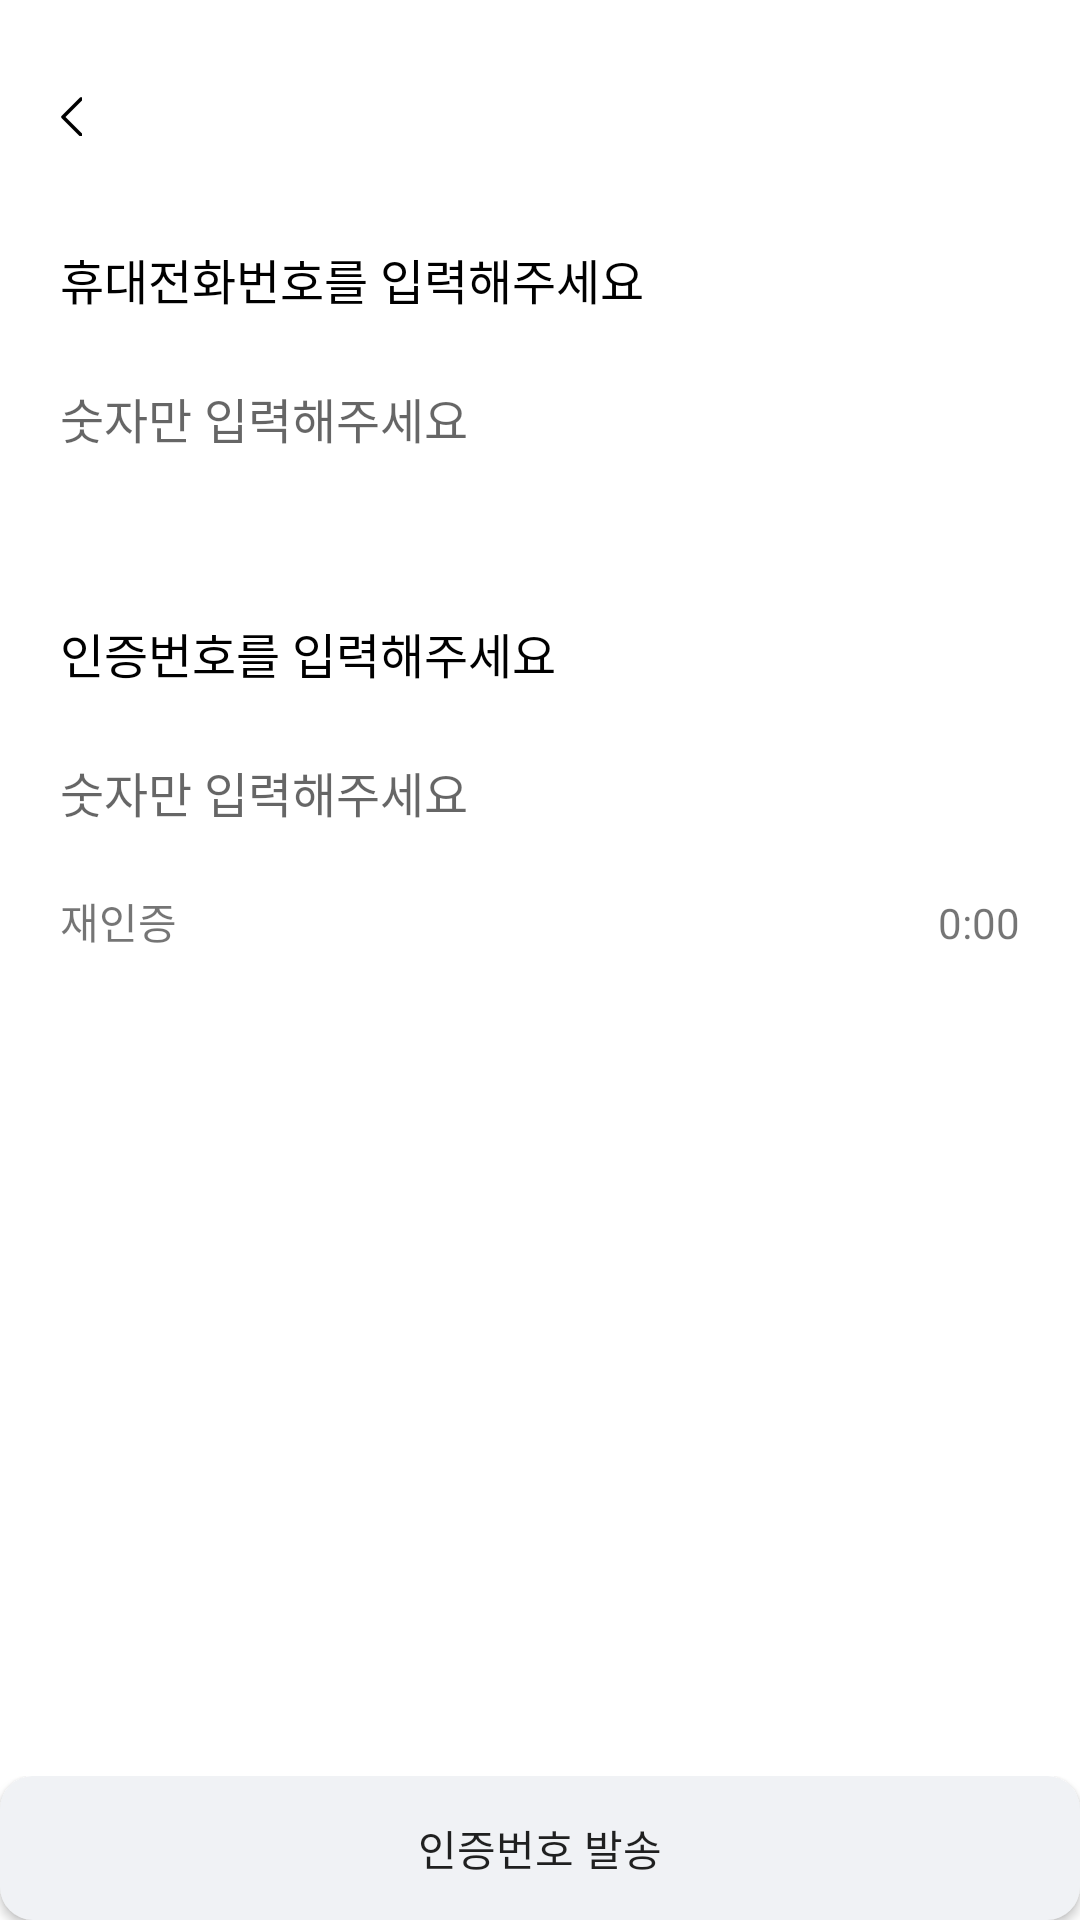

Icon click points for this 1080 x 1920 phone screenshot, format (x,y):
back: (71,116)
